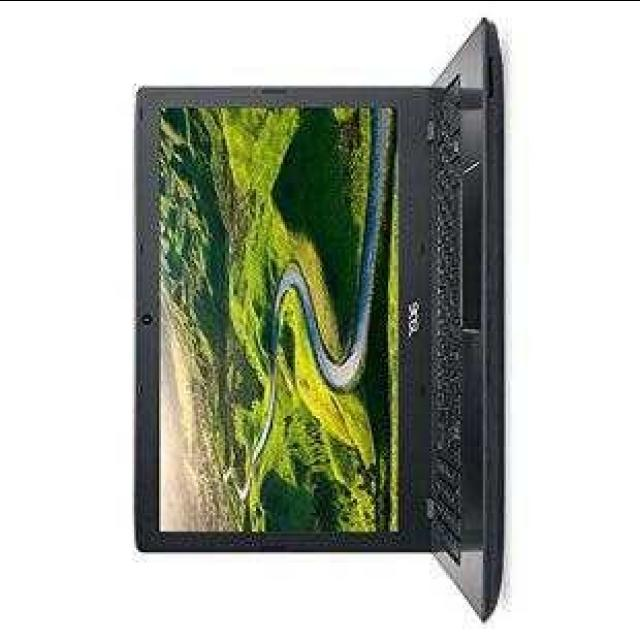laptop: (117, 41, 551, 622)
